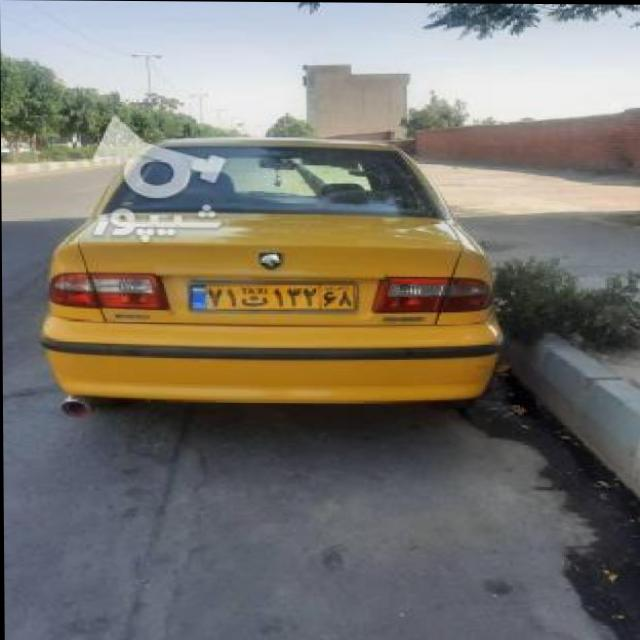licence: (184, 275, 361, 313)
